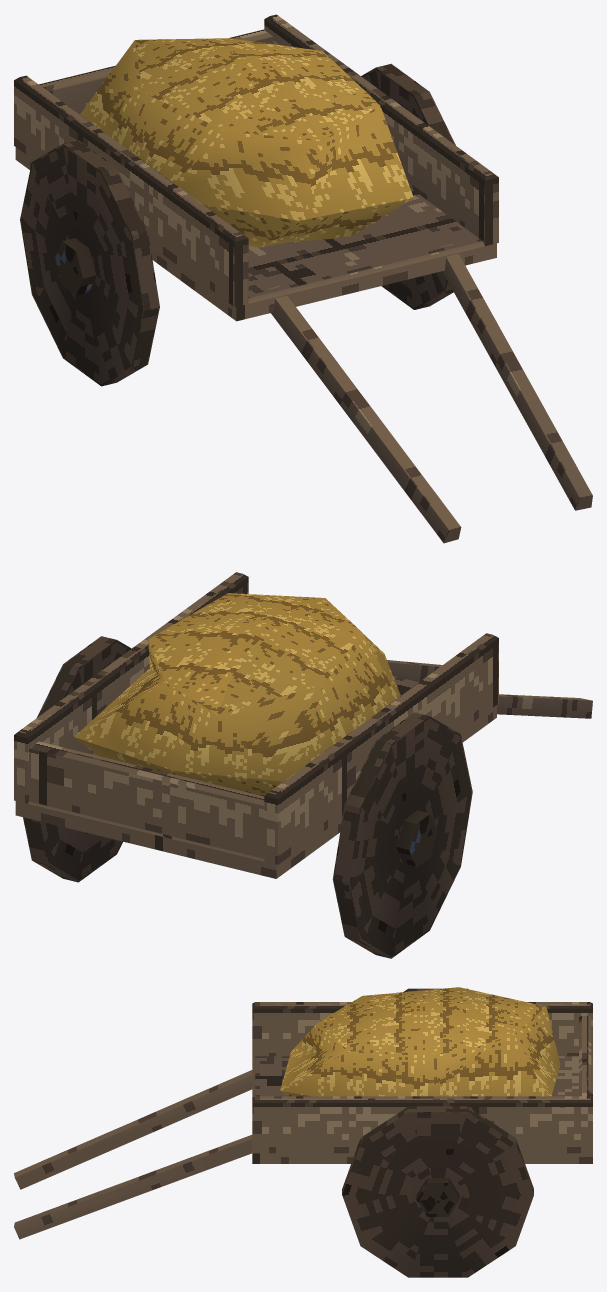
File: mprop.cart.glb
3 renders of one model, top to bottom at view 1: azimuth 30°, elevation 25°; view 2: azimuth 150°, elevation 25°; view 3: azimuth 270°, elevation 25°, orthographic. The views are drawn at different scales.
Parts seen in each view (by area): view 1: kit_bed, kit_load, kit_wheels; view 2: kit_bed, kit_load, kit_wheels; view 3: kit_bed, kit_wheels, kit_load.
Part boxes in pixels (x1,y1,x2,y2): kit_bed: (14,14,592,543); kit_load: (80,38,413,247); kit_wheels: (20,63,455,386); kit_bed: (14,572,592,878); kit_load: (74,593,400,796); kit_wheels: (23,636,472,958); kit_bed: (14,1002,592,1239); kit_wheels: (342,988,533,1277); kit_load: (280,987,560,1096).
Bounding box in the file's own units: 2.04 × 1.52 × 3.74.
5 materials, 5 textured.
